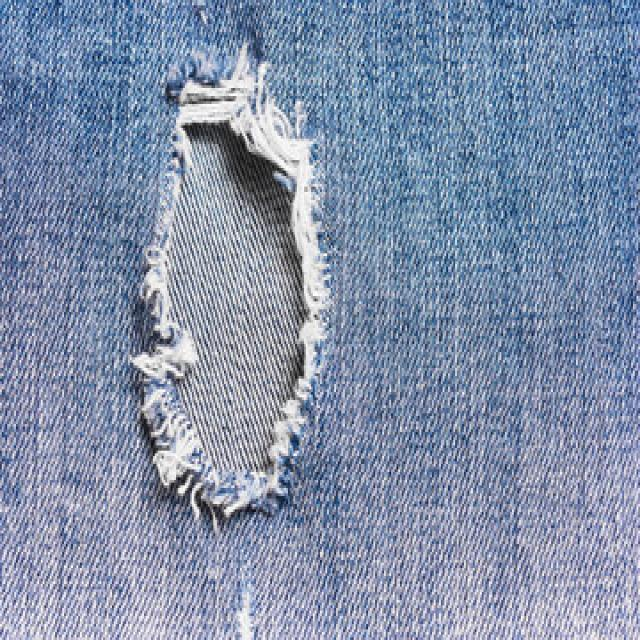Hole: (131, 46, 328, 520)
